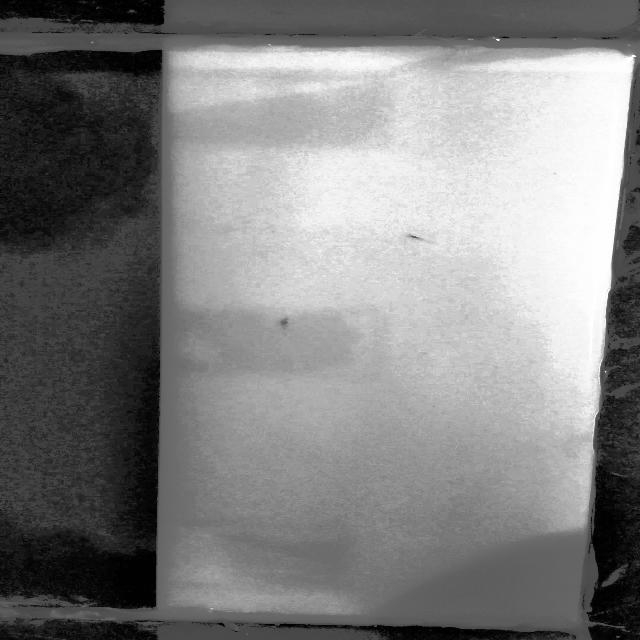shrimp: (384, 228, 430, 244), (269, 314, 299, 332)
